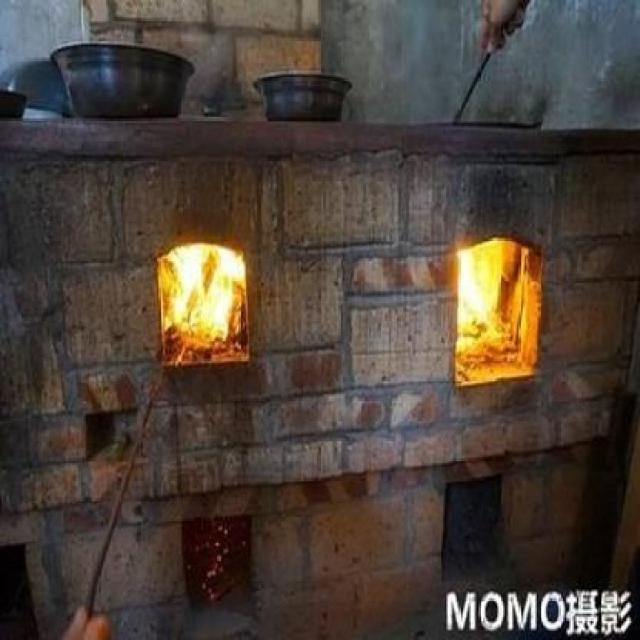Fire: (162, 244, 251, 362), (454, 238, 503, 363)
